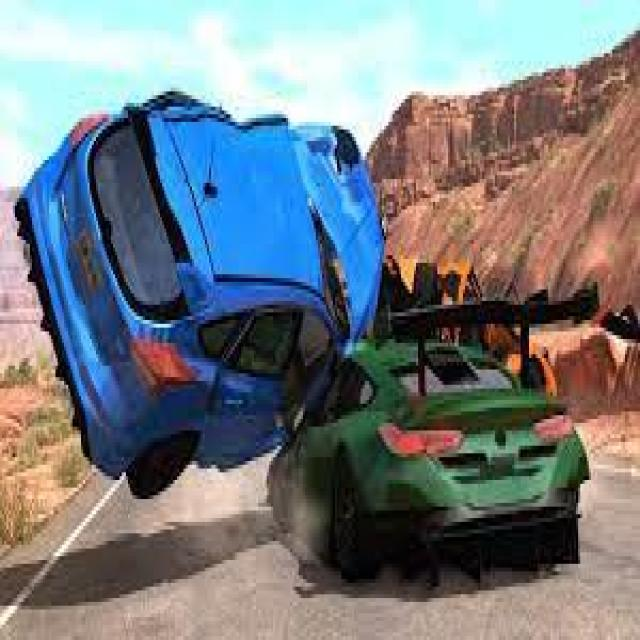severe: (14, 84, 596, 583)
